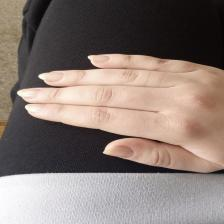five: (16, 51, 217, 172)
